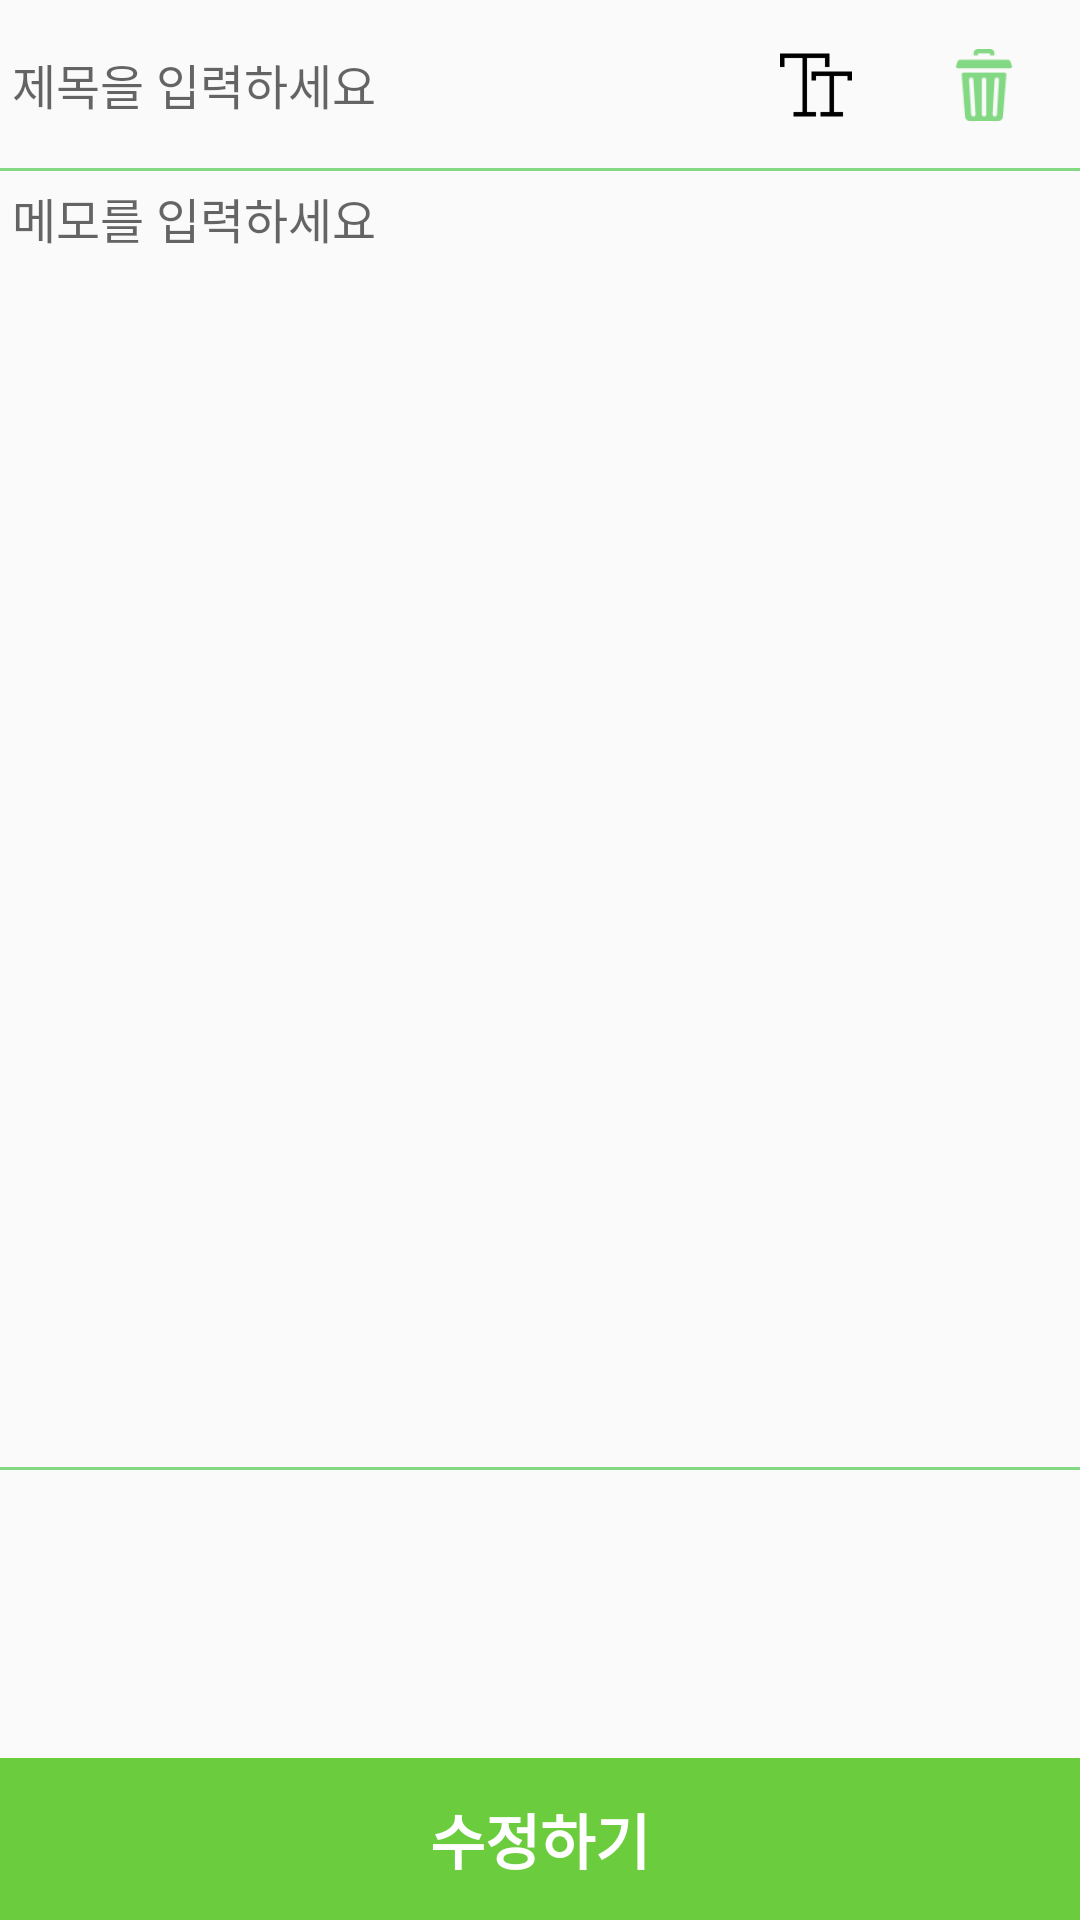

Where to tap for icons on this 1080*1920 app screen, as (x,y):
delete: (984,85)
text font: (816,85)
